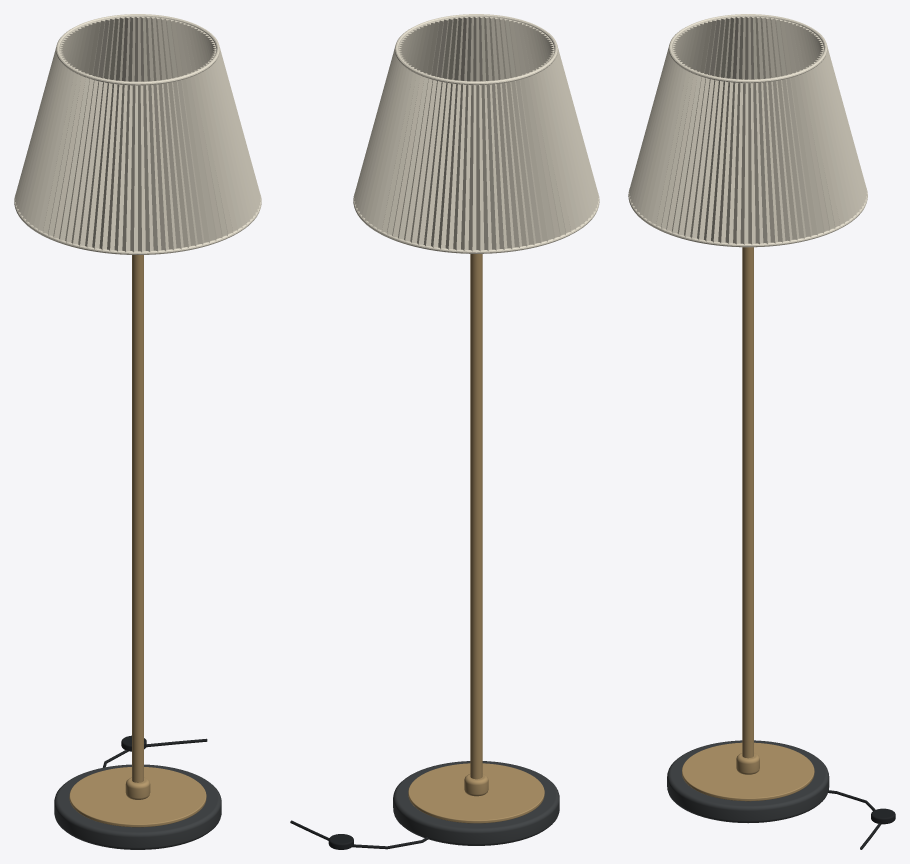
File: floor-lamp.glb
The picture shows the model from 3 angles, left to right: view 1: azimuth 30°, elevation 25°; view 2: azimuth 150°, elevation 25°; view 3: azimuth 270°, elevation 25°; orthographic projection. The views are drawn at different scales.
Parts seen in each view (by area): view 1: Open pleated linen lampshade, Slender stem, Brass base inset, Weighted disc base, Upper bound linen hem, Lower bound linen hem; view 2: Open pleated linen lampshade, Slender stem, Brass base inset, Weighted disc base, Upper bound linen hem, Lower bound linen hem; view 3: Open pleated linen lampshade, Slender stem, Brass base inset, Weighted disc base, Upper bound linen hem, Lower bound linen hem.
Boxes of the visible parts, bbox=[...] form: Open pleated linen lampshade: bbox=[15, 16, 260, 252]; Slender stem: bbox=[132, 255, 143, 782]; Brass base inset: bbox=[69, 767, 206, 827]; Weighted disc base: bbox=[54, 764, 221, 849]; Upper bound linen hem: bbox=[56, 14, 219, 85]; Lower bound linen hem: bbox=[14, 195, 261, 254]; Open pleated linen lampshade: bbox=[354, 16, 598, 251]; Slender stem: bbox=[470, 254, 482, 779]; Brass base inset: bbox=[408, 763, 544, 823]; Weighted disc base: bbox=[393, 761, 559, 845]; Upper bound linen hem: bbox=[394, 14, 558, 85]; Lower bound linen hem: bbox=[353, 194, 599, 253]; Open pleated linen lampshade: bbox=[629, 16, 867, 244]; Slender stem: bbox=[742, 247, 753, 758]; Brass base inset: bbox=[682, 742, 814, 801]; Weighted disc base: bbox=[667, 740, 829, 823]; Upper bound linen hem: bbox=[668, 14, 827, 83]; Lower bound linen hem: bbox=[628, 189, 867, 247].
Bounding box in the file's own units: 0.5347 × 1.67 × 0.5438.
